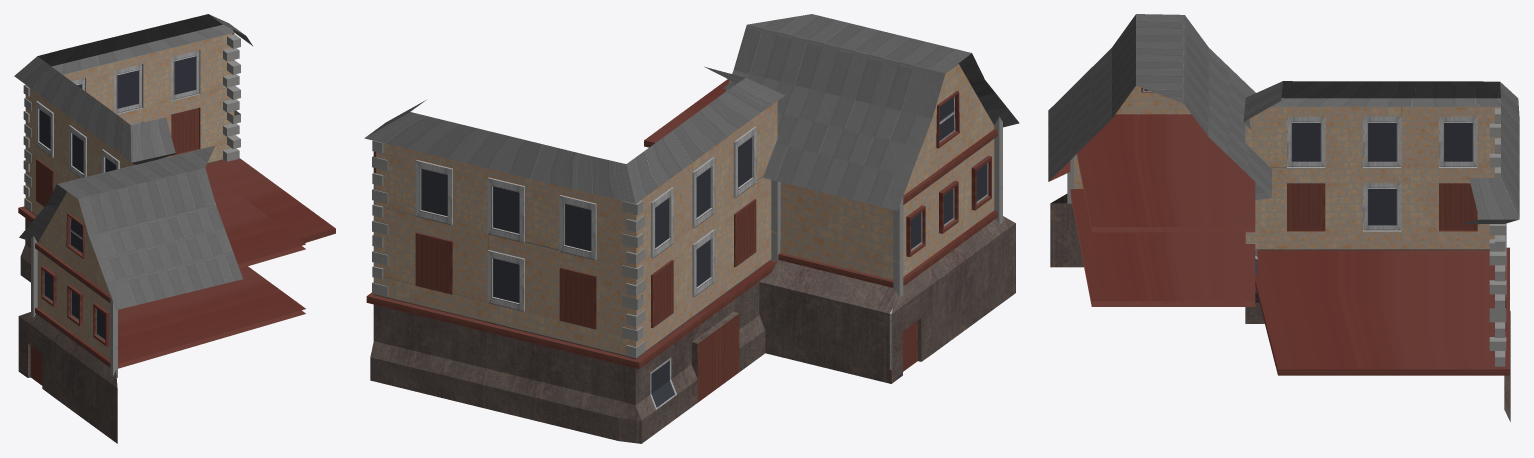
Rendered from cafemainfbx.fbx.
The picture shows the model from 3 angles, left to right: view 1: azimuth 30°, elevation 25°; view 2: azimuth 150°, elevation 25°; view 3: azimuth 270°, elevation 25°; orthographic projection. The views are drawn at different scales.
Visible parts, largest first — view 1: Cube.008; view 2: Cube.008; view 3: Cube.008.
Part boxes in pixels (bbox=[...]): Cube.008: bbox=[14, 14, 335, 443]; Cube.008: bbox=[364, 14, 1019, 443]; Cube.008: bbox=[1048, 14, 1519, 421].
Size of the model in its own units: 12990 by 8500 by 14393.
